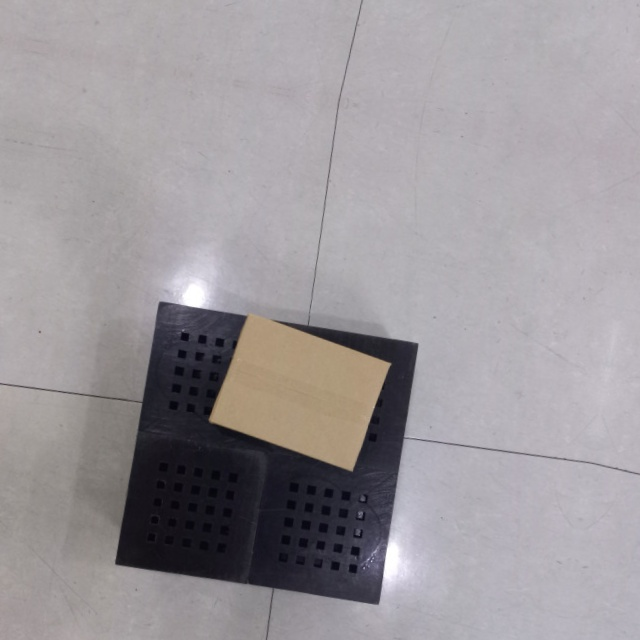box: (207, 310, 394, 477)
pallet: (109, 293, 420, 615)
